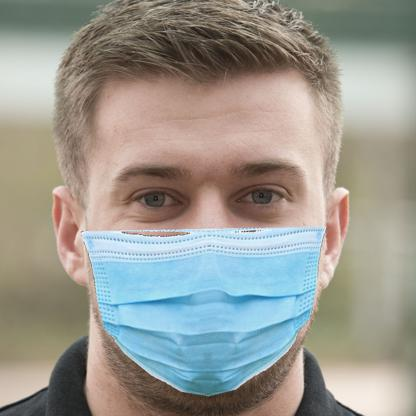mask: (80, 228, 330, 395)
